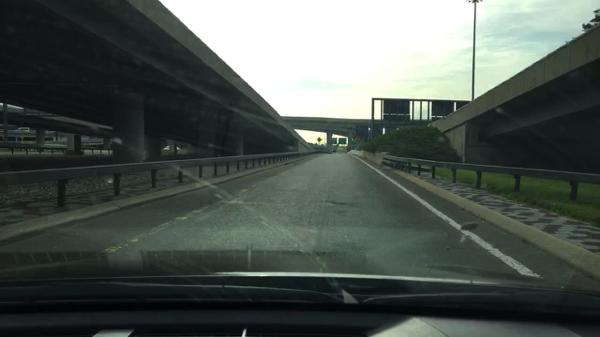car: (163, 146, 180, 153), (15, 128, 30, 133), (345, 146, 354, 152), (332, 148, 337, 153), (330, 148, 333, 153)
traffic sign: (382, 99, 409, 114), (431, 101, 452, 116), (383, 115, 410, 122), (455, 102, 469, 111), (351, 138, 359, 146), (329, 138, 337, 145), (338, 139, 346, 144), (316, 137, 322, 142)
